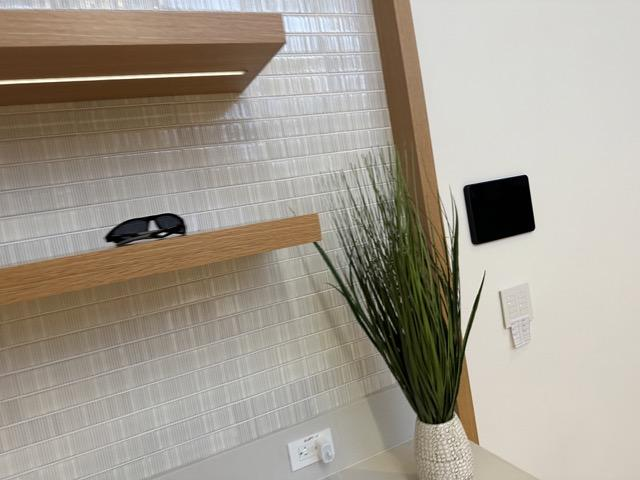Sunglasses: (106, 212, 188, 246)
